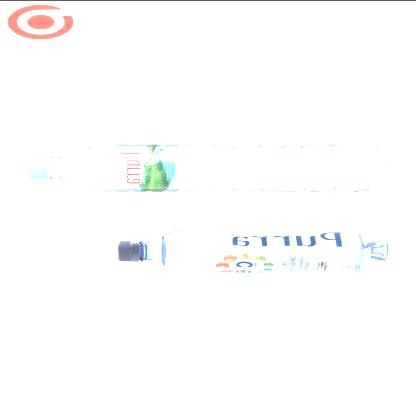bottle: (20, 139, 391, 194), (113, 223, 396, 277)
